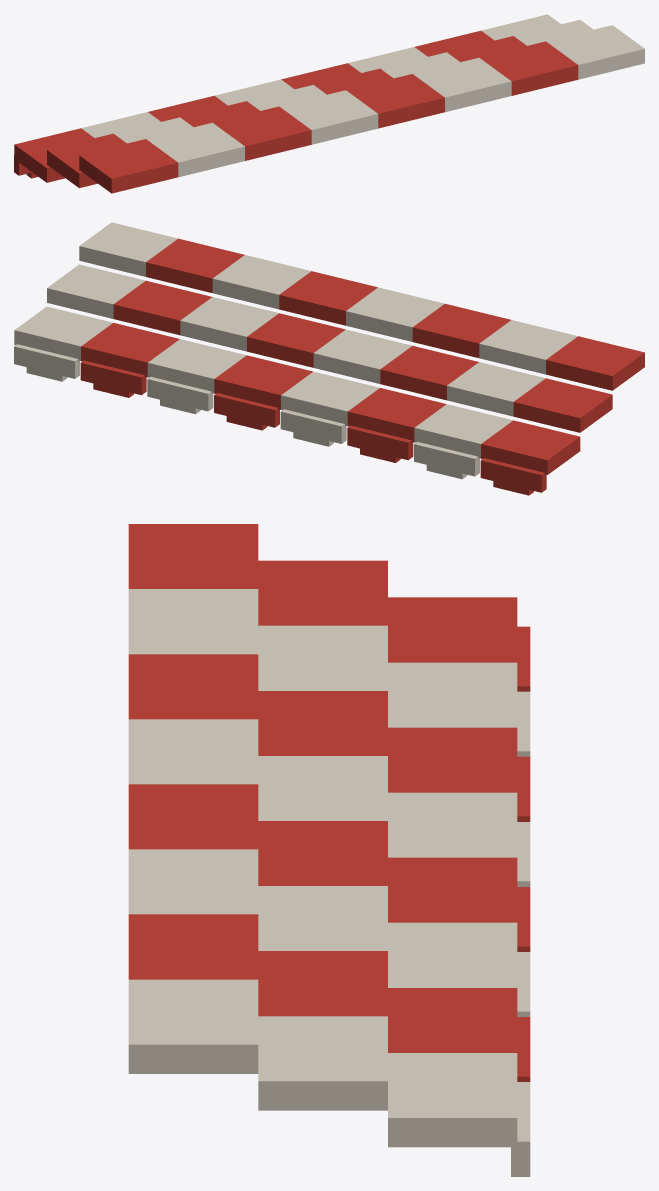
Rendered from cp-shop-awning-red.glb.
3 renders of one model, top to bottom at view 1: azimuth 30°, elevation 25°; view 2: azimuth 150°, elevation 25°; view 3: azimuth 270°, elevation 25°, orthographic. The views are drawn at different scales.
Visible parts, largest first — view 1: box-prop; view 2: box-prop; view 3: box-prop.
Boxes of the visible parts, left/top/right/bottom form: box-prop: left=14, top=14, right=644, bottom=193; box-prop: left=14, top=222, right=644, bottom=495; box-prop: left=128, top=524, right=530, bottom=1176.
Size of the model in its own units: 7.6 by 1 by 2.48.
